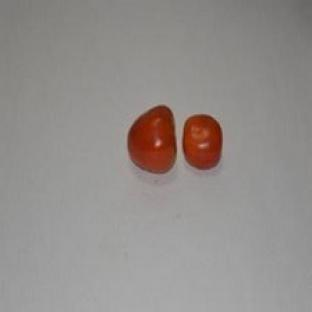Tomato: (129, 106, 176, 172), (183, 115, 222, 168)
